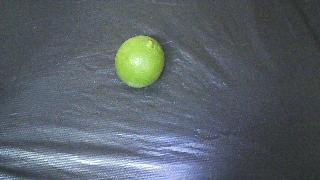LOCAL: (115, 35, 165, 88)
